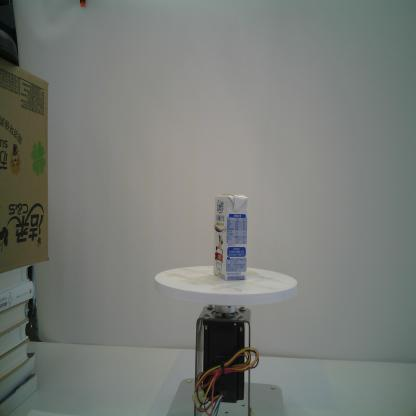Milk: (213, 193, 248, 281)
